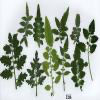Tomato leaf: (44, 15, 54, 46), (42, 49, 51, 62), (43, 83, 52, 94), (42, 66, 50, 77), (42, 60, 50, 70), (54, 59, 60, 72), (54, 74, 61, 85), (50, 48, 57, 56), (52, 53, 59, 61)
